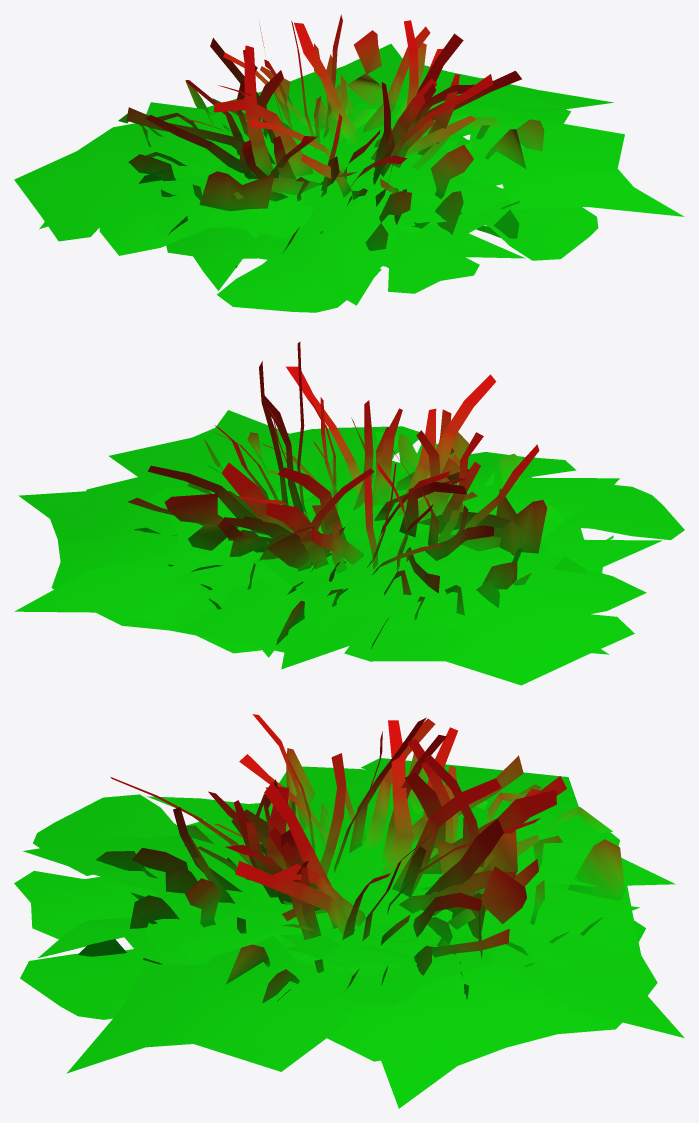
The model's file is Wild Grass_LOD0_Var15_vdilbaiia.fbx.
The picture shows the model from 3 angles, top to bottom: view 1: azimuth 30°, elevation 25°; view 2: azimuth 150°, elevation 25°; view 3: azimuth 270°, elevation 25°; orthographic projection. The views are drawn at different scales.
Parts seen in each view (by area): view 1: _g9vd_Var15_LOD0; view 2: _g9vd_Var15_LOD0; view 3: _g9vd_Var15_LOD0.
Boxes of the visible parts, box(x1,y1,x2,y2) form: _g9vd_Var15_LOD0: box(14, 14, 684, 312); _g9vd_Var15_LOD0: box(14, 342, 684, 685); _g9vd_Var15_LOD0: box(14, 714, 684, 1108).
Size of the model in its own units: 88.31 by 24.53 by 72.43.
